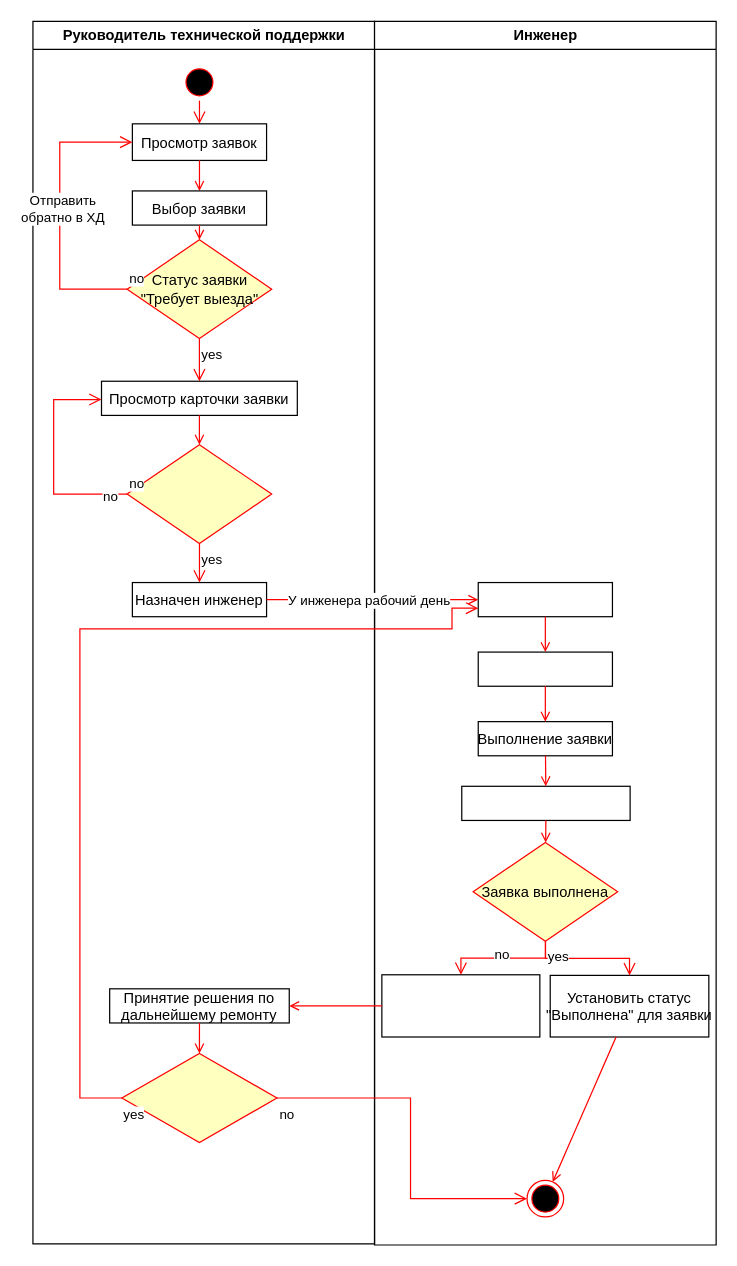
Image size: 737x1266. Some labels were removed from this diagram. Each missing label, with the centre of its shape:
Выезд по заявке: the point at 544,668
Загрузка фото в заявку: the point at 545,802
Просмотр заявки: the point at 544,599
Прошло 30 мин с прошлой заявки выбранного инженера: the point at 199,493
Решить проблему возможно: the point at 199,1097
Установить соответствующий статус для заявки: the point at 460,1005
